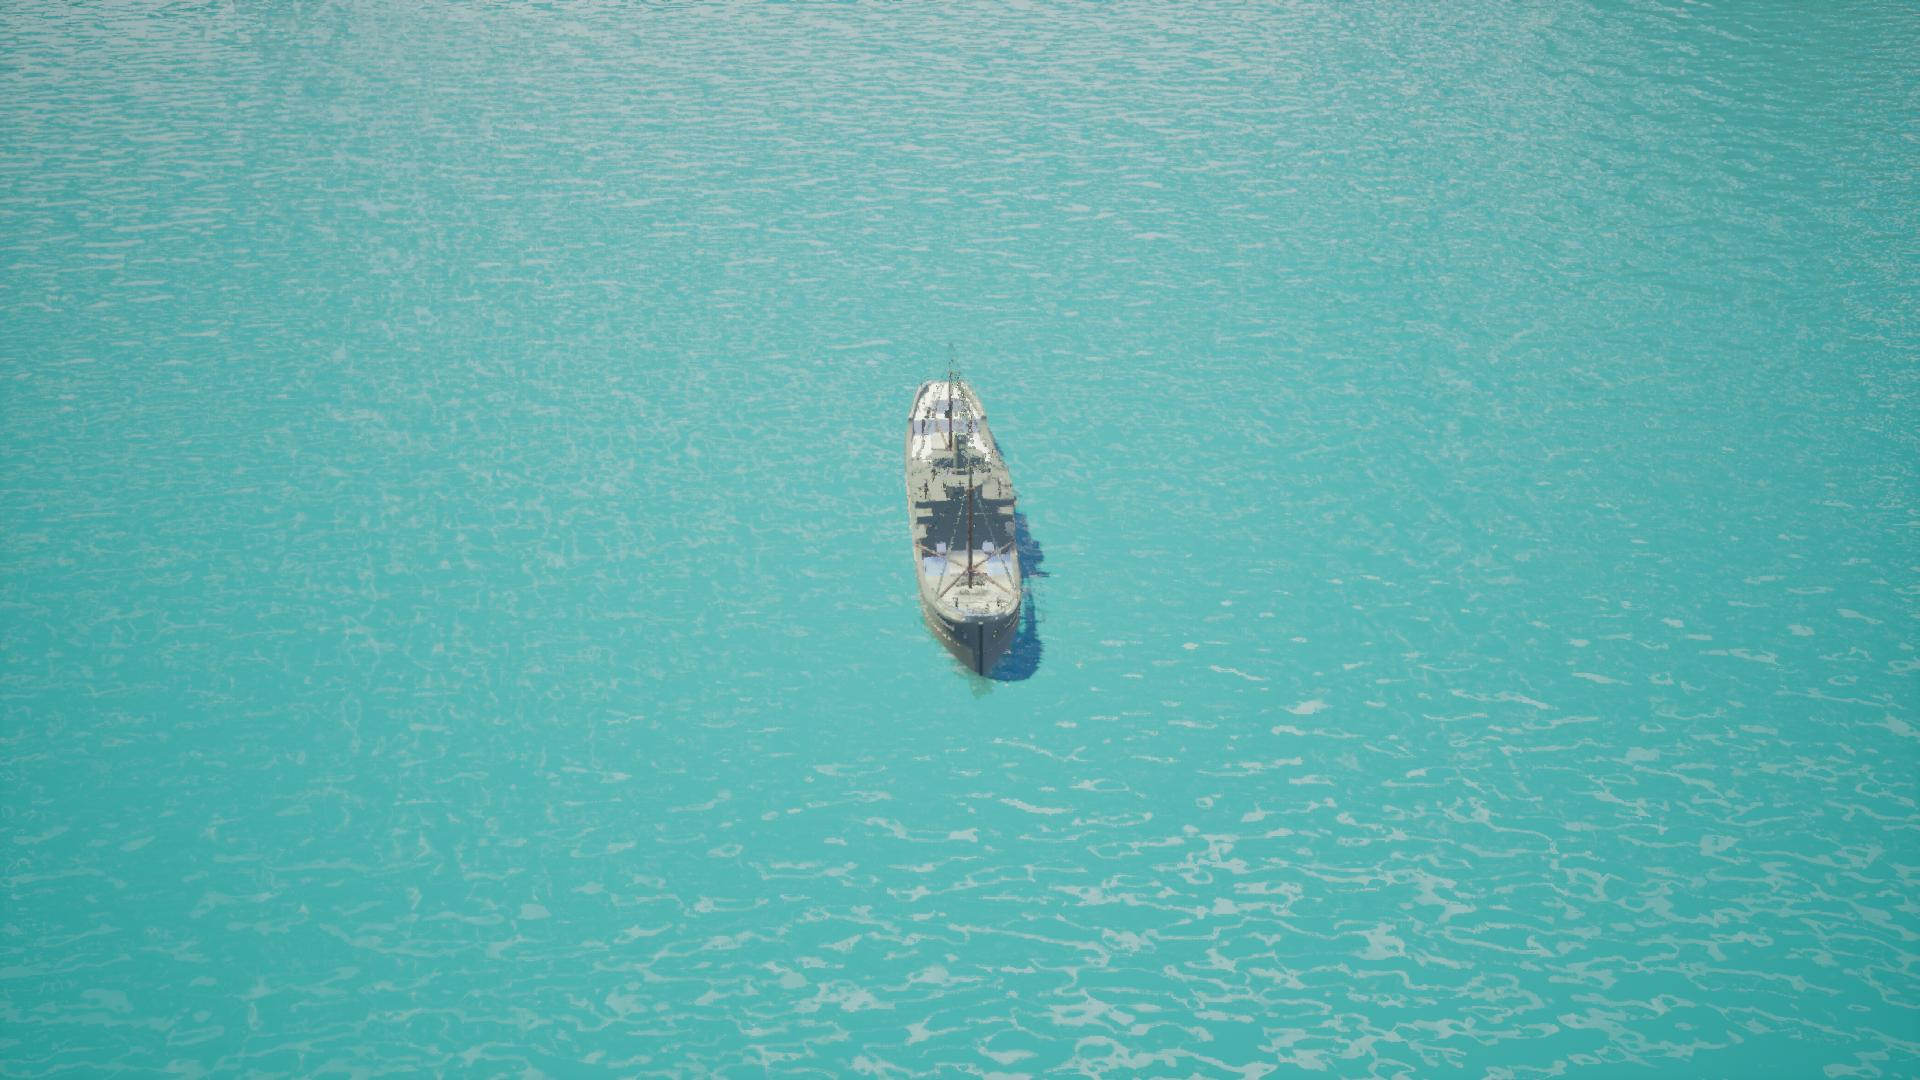Fishing Boat: (903, 372, 1036, 691)
